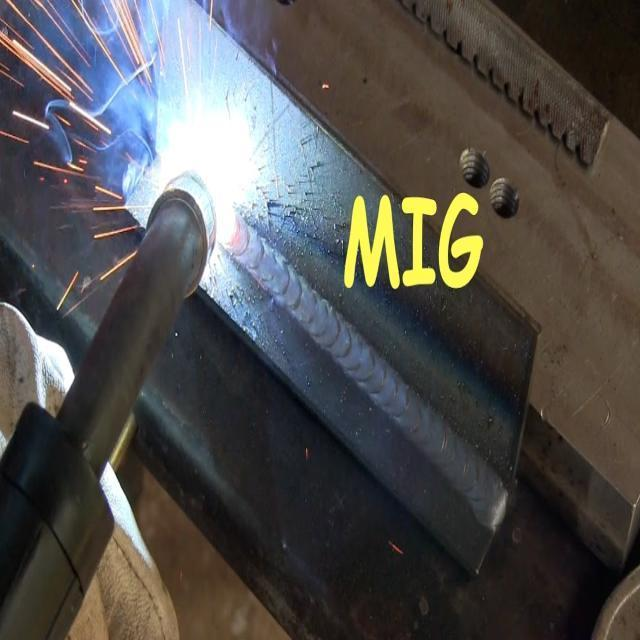Good Welding: (222, 213, 508, 533)
